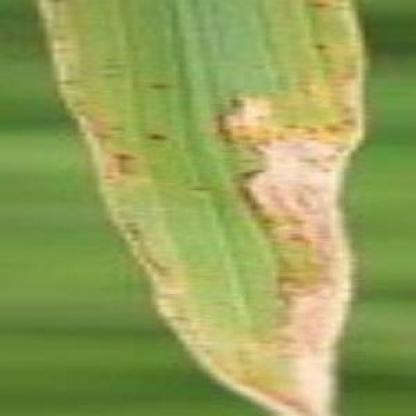Blight: (249, 88, 380, 416)
